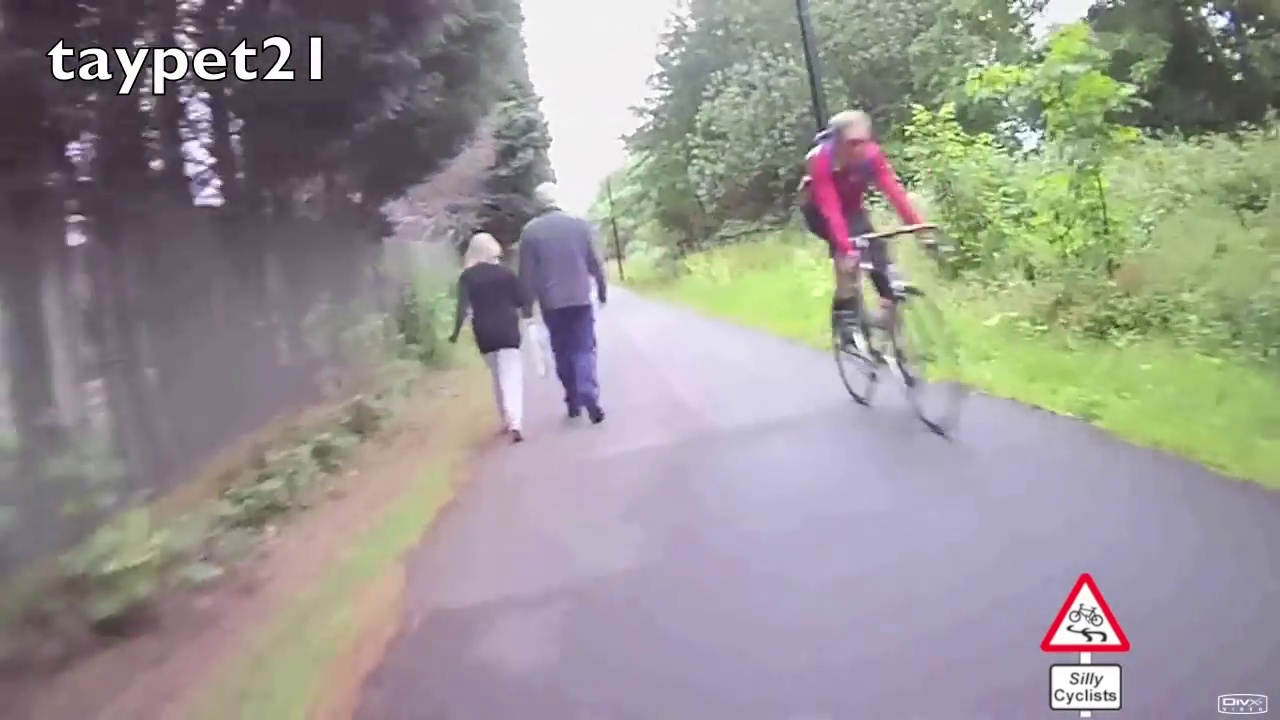cyclist_front: (787, 97, 984, 449)
